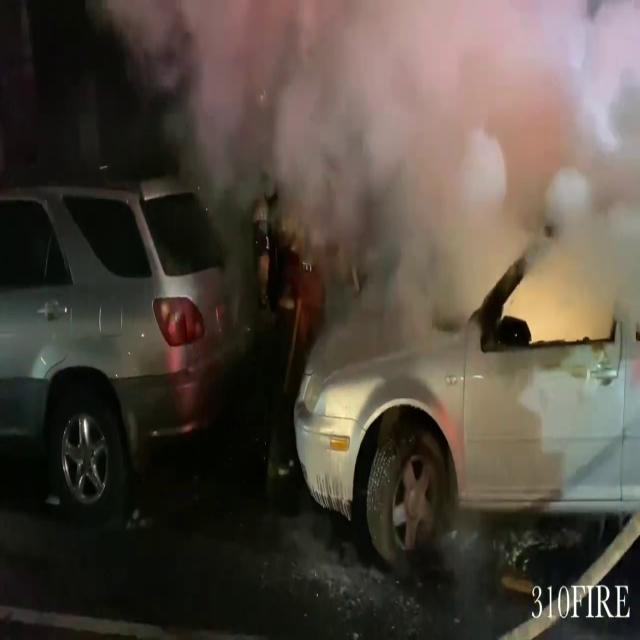Smoke: (165, 0, 640, 352)
